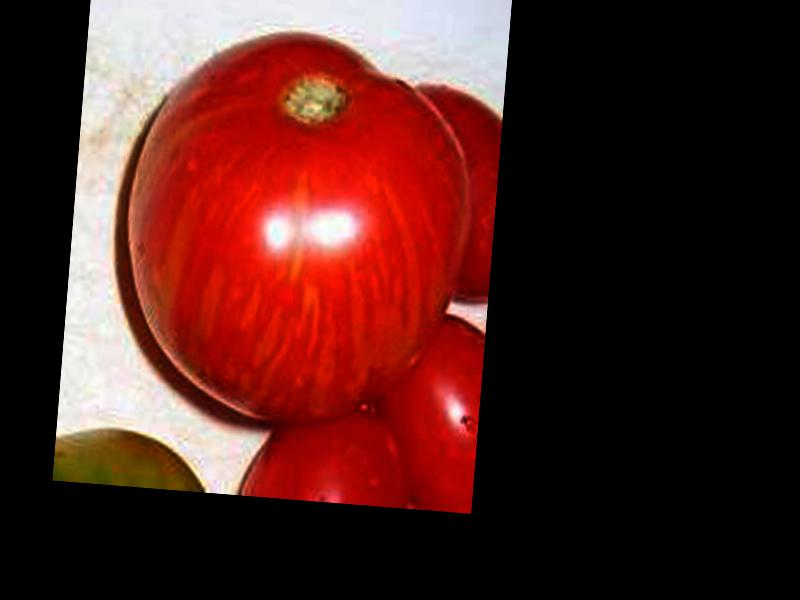Tomato: (111, 15, 485, 438)
